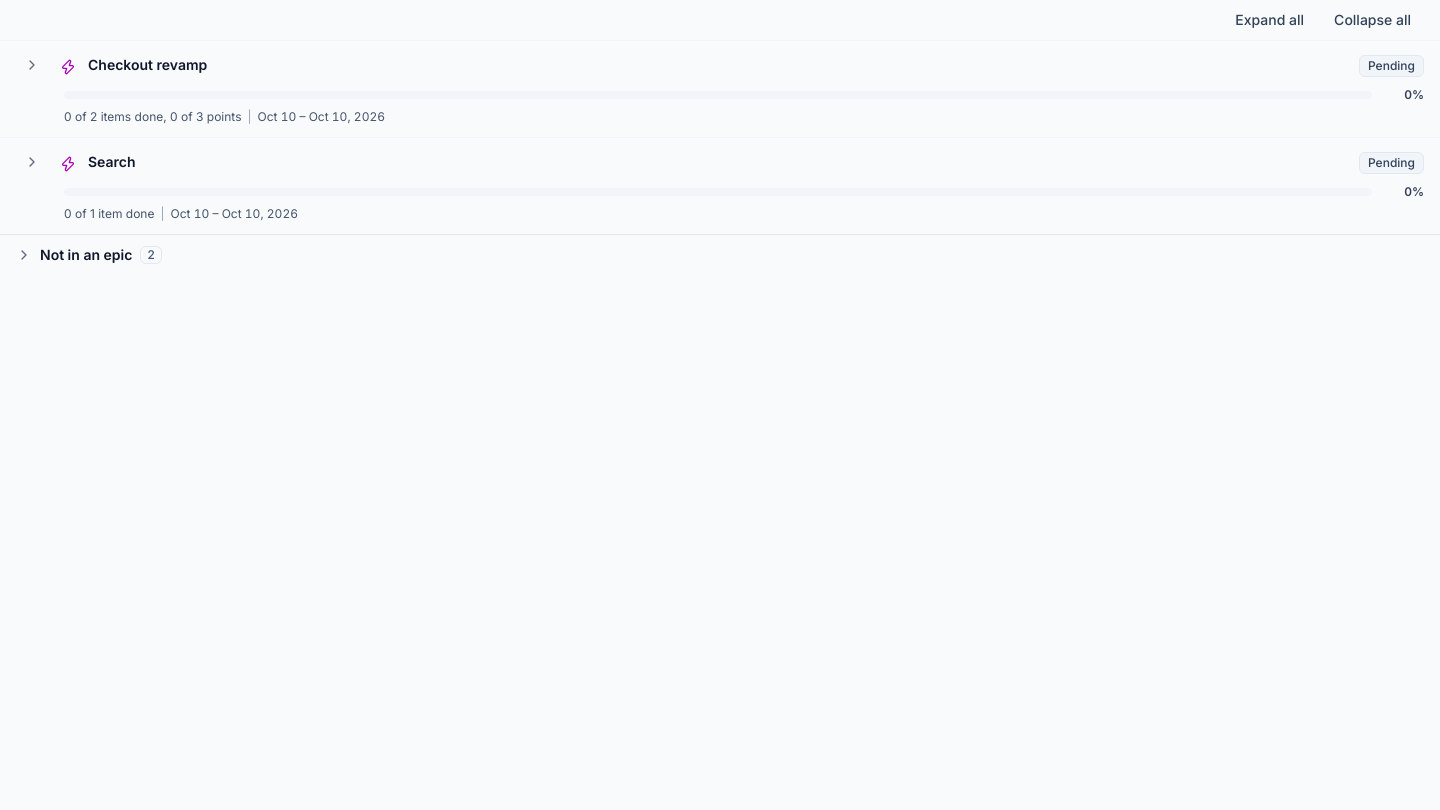
Scenario: epic hierarchy › links existing tasks to an epic through the dialog
This screenshot has width=1440, height=810.
Click the button named "Expand items of Checkout revamp". click: (32,65)
box: [16,49,48,81]
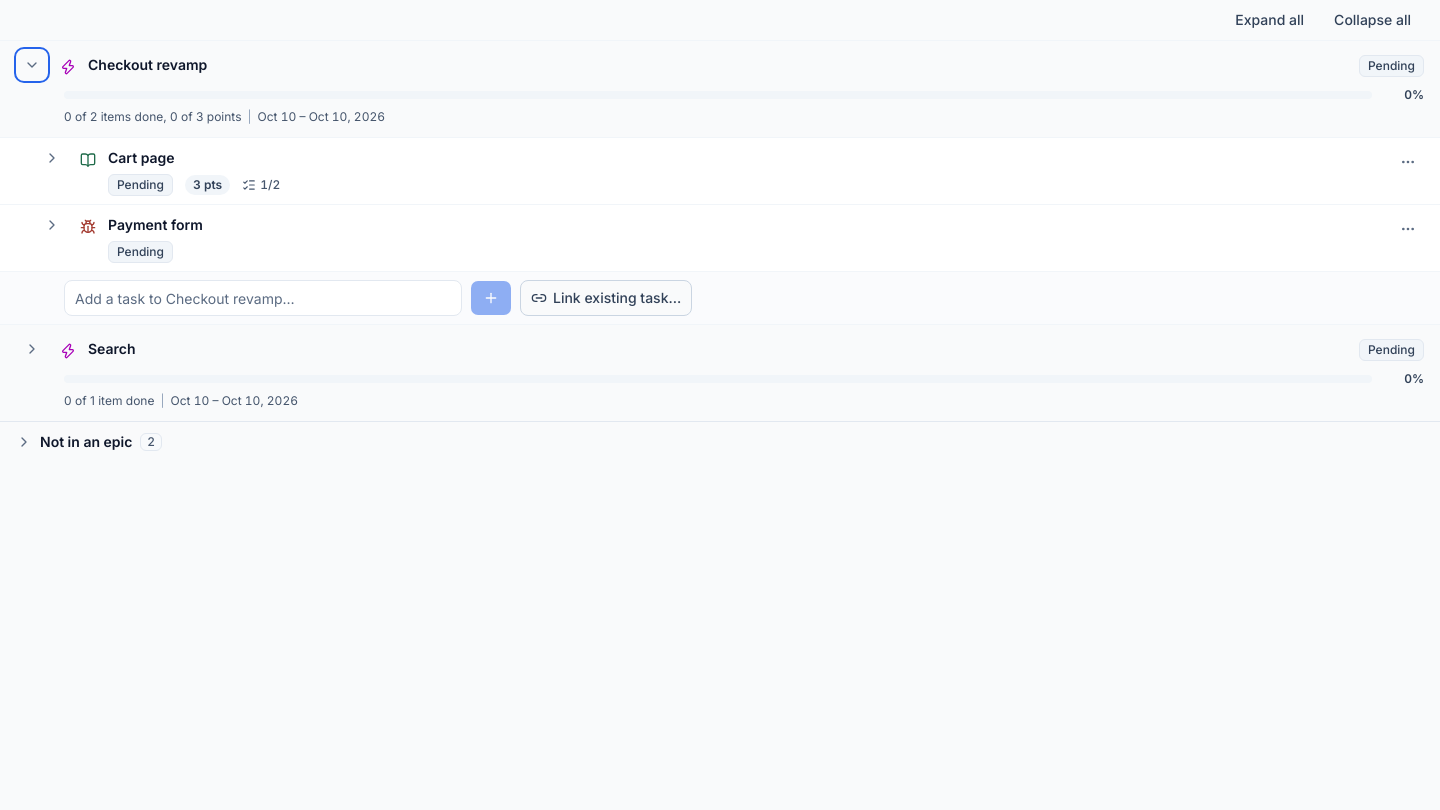
Click the button "Link existing task…". click: (606,298)
box: [520,280,692,316]
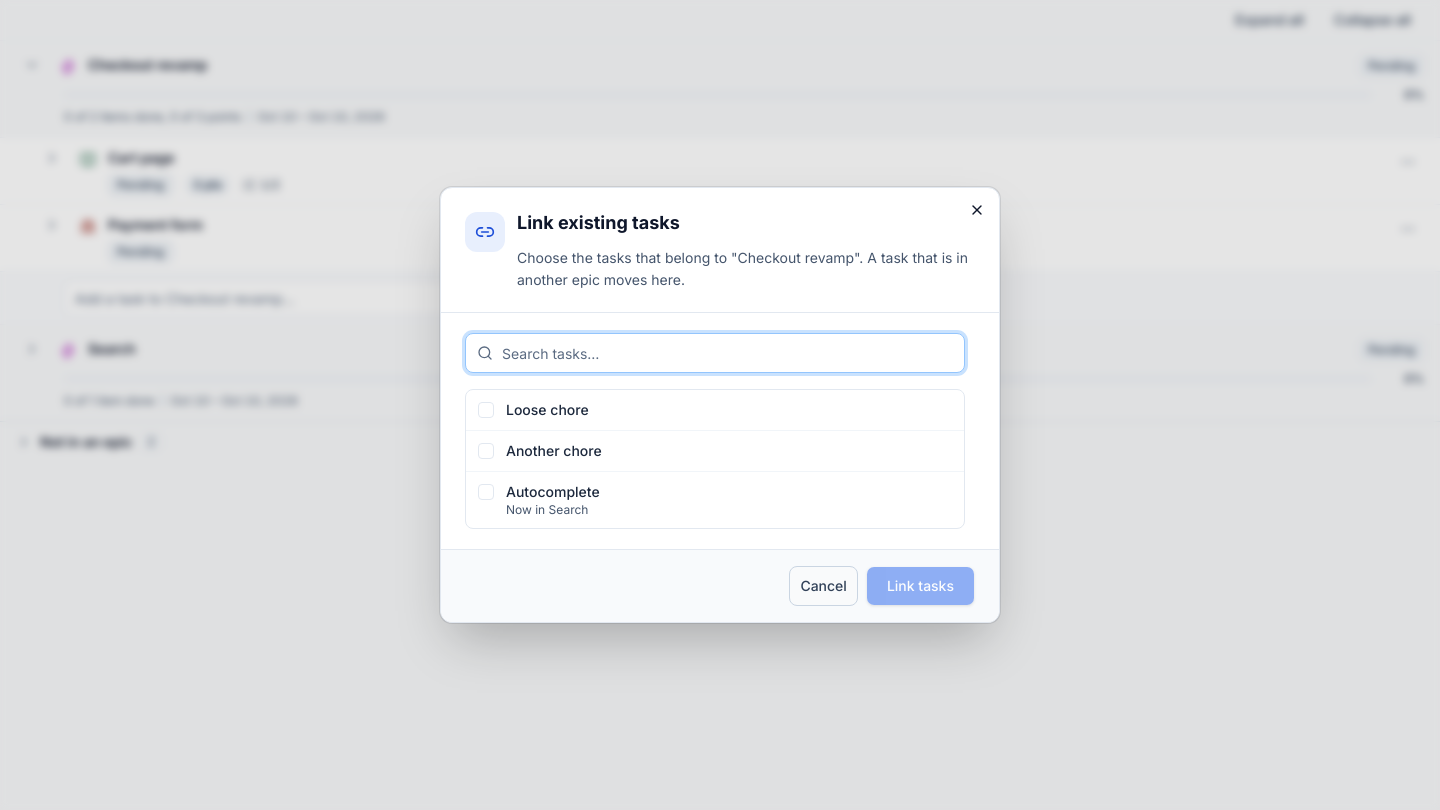
Expected: the text "Now in Search" is shown, [506,502,588,517]
Expected: the button "Link tasks" is disabled, [866,566,975,606]
Type "chore" into the search field labelled "Search tasks". click: (715,353)
box: [465,333,965,373]
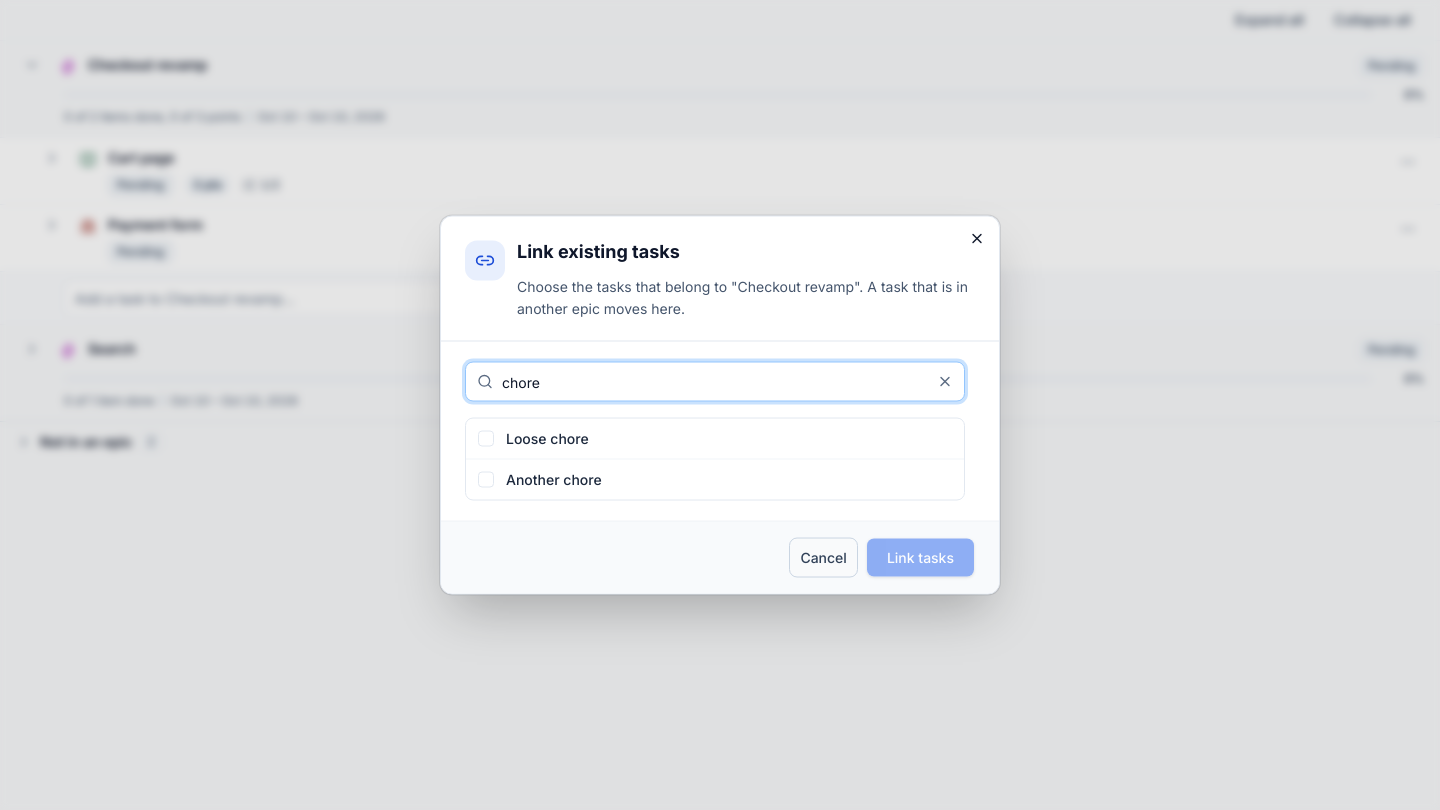
Expected: the text "Autocomplete" is gone
Click the checkbox named "Loose chore" next to "Loose chore". click: (486,438)
box: [478,430,494,446]
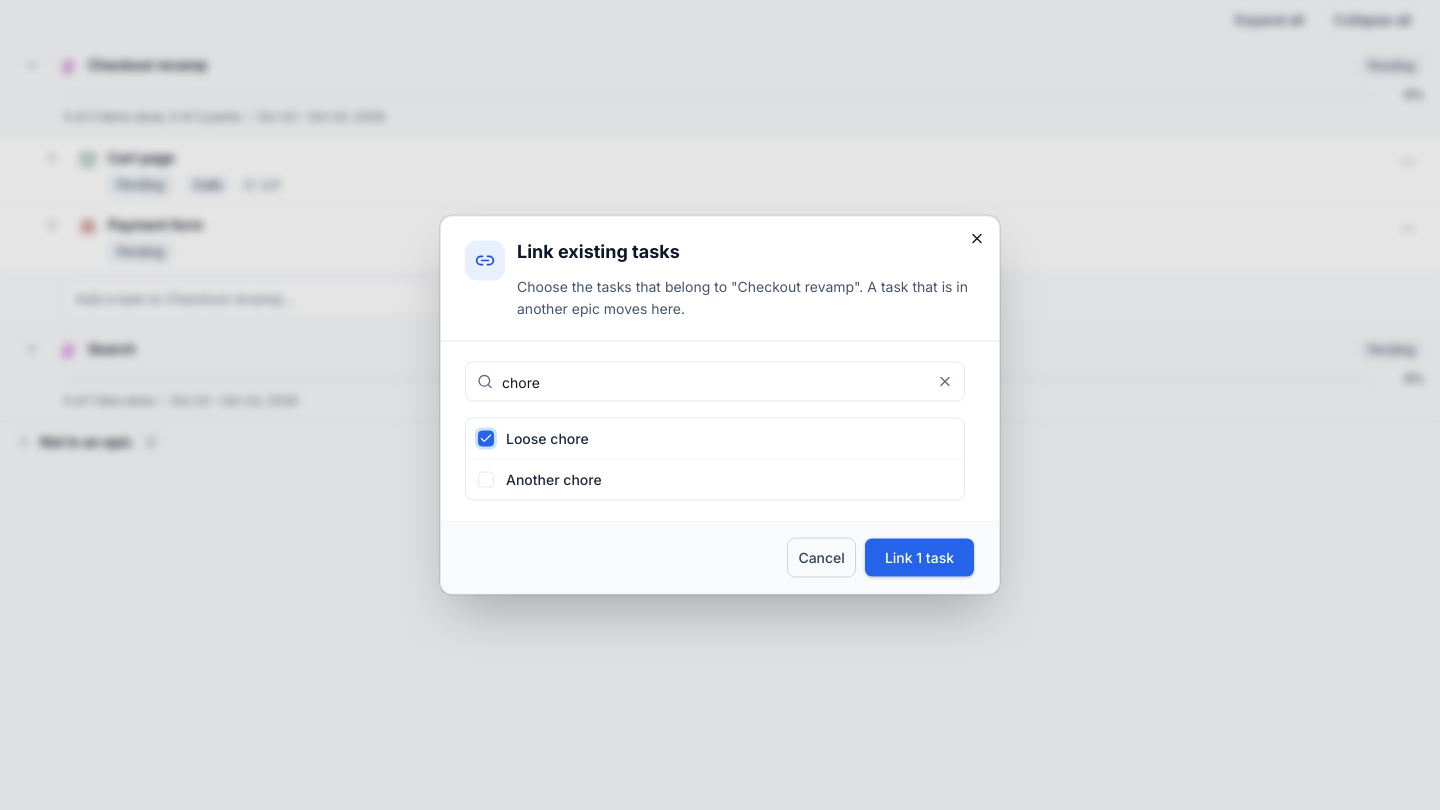
Click the checkbox named "Another chore" next to "Another chore". click: (486,480)
box: [478,472,494,488]
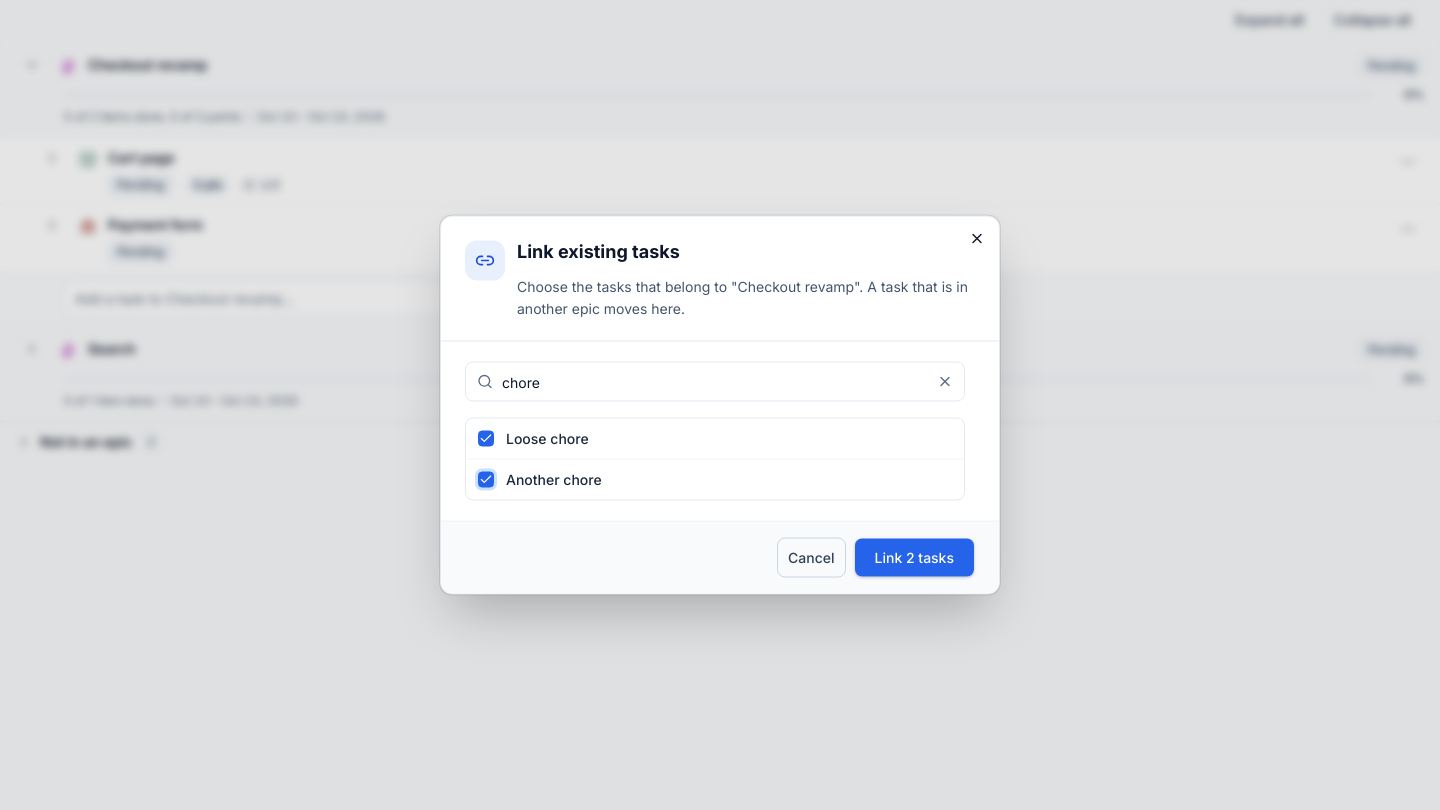
Click the button "Link 2 tasks". click: (914,558)
box: [854,538,975,578]
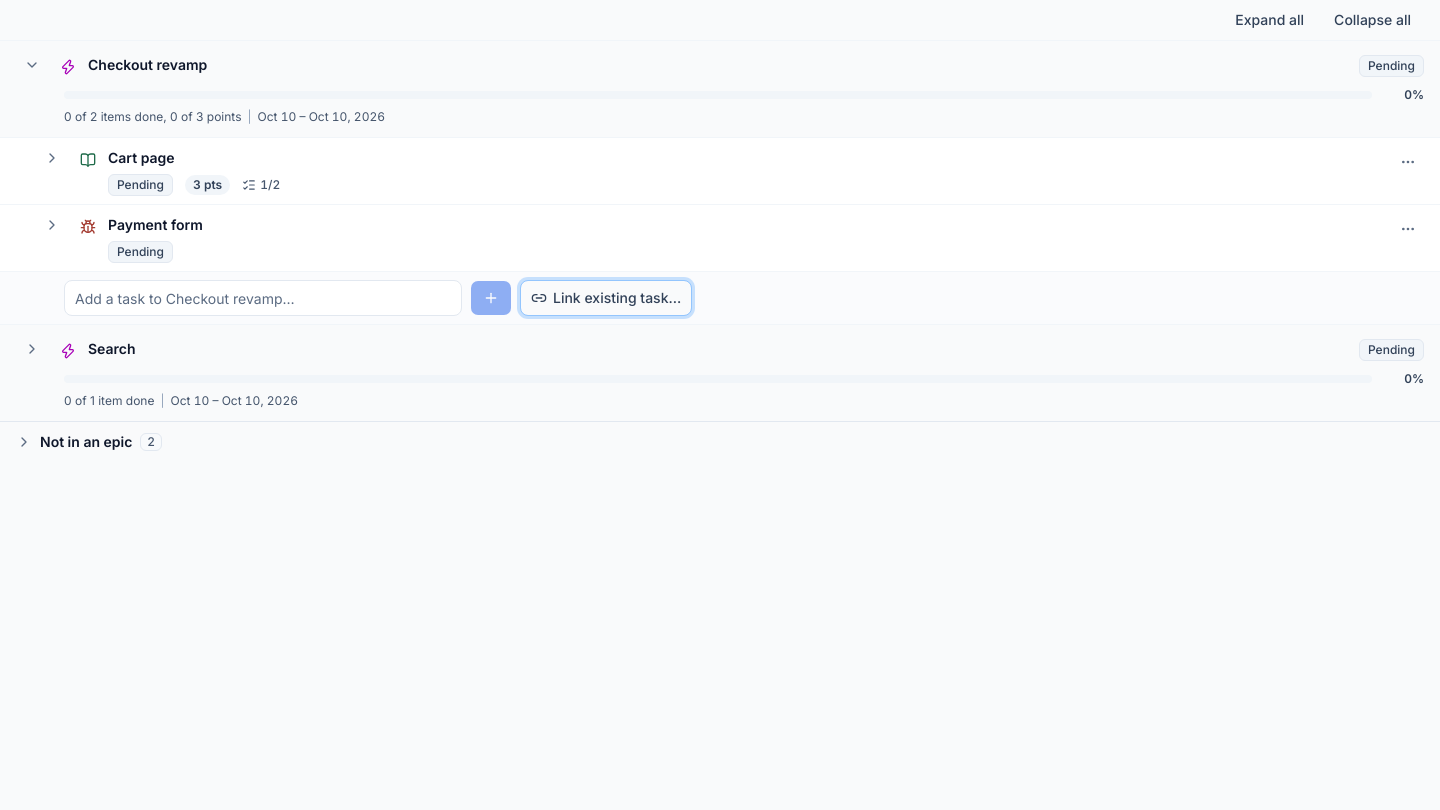
Expected: the dialog is gone
